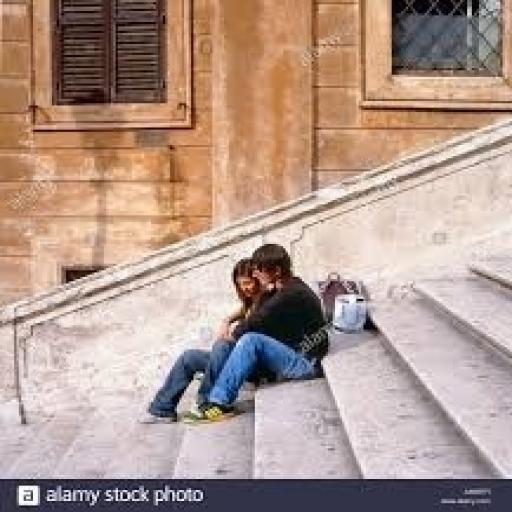sitting: (140, 242, 330, 426)
